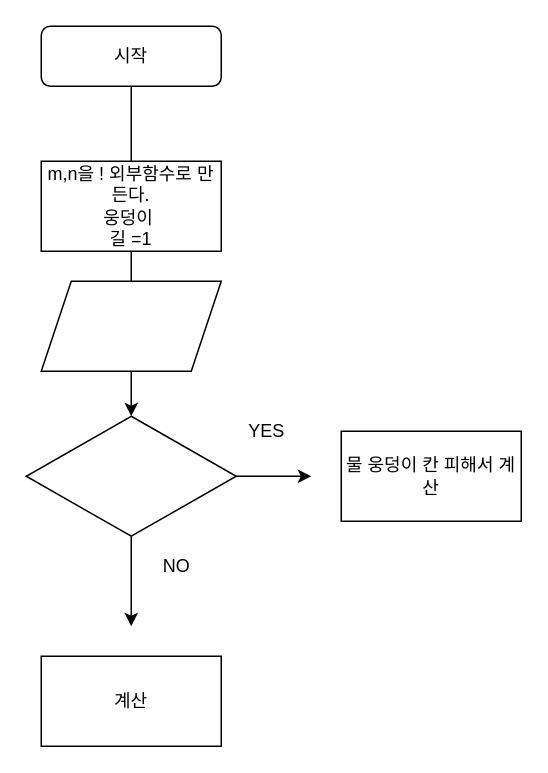
This 548x773 diagram has some shape labels left out. The centre of each missing label's shape, as x and y in pixels:
"물 웅덩이" belongs at point 130,475.
"웅덩이 위치, 0으로 초기화 팩토리얼 함수에 m,n입력" belongs at point 130,325.
